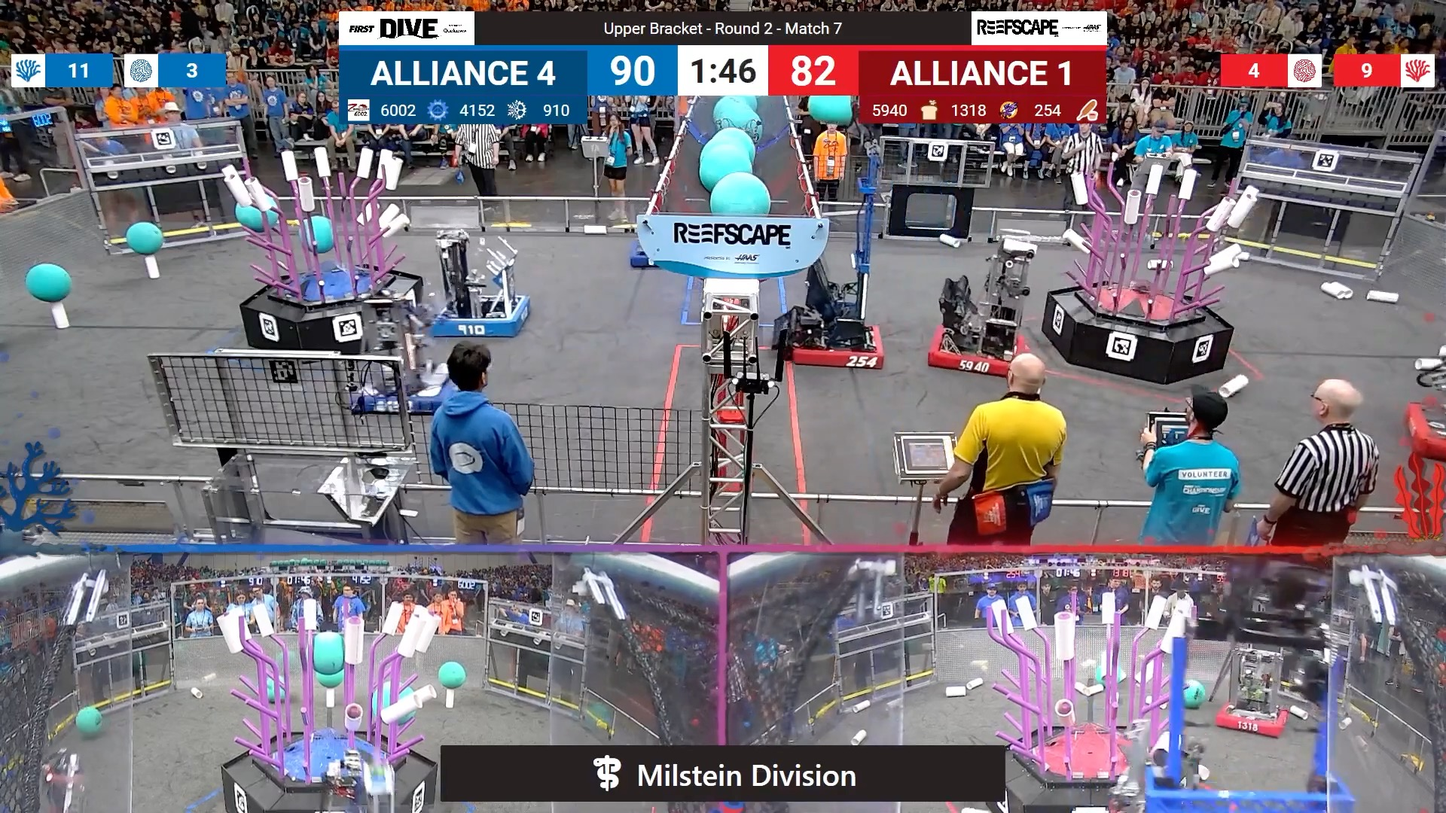bumpers: (918, 322, 1037, 382), (776, 318, 893, 378), (349, 360, 453, 417), (426, 291, 535, 344), (1206, 700, 1292, 740), (1404, 393, 1446, 464), (624, 243, 672, 272)
